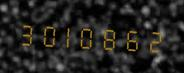eight: (101, 20, 121, 54)
one: (59, 18, 79, 52)
six: (122, 21, 142, 55)
three: (17, 16, 37, 50)
two: (143, 22, 163, 56)
zero: (38, 17, 58, 51), (80, 19, 100, 53)
